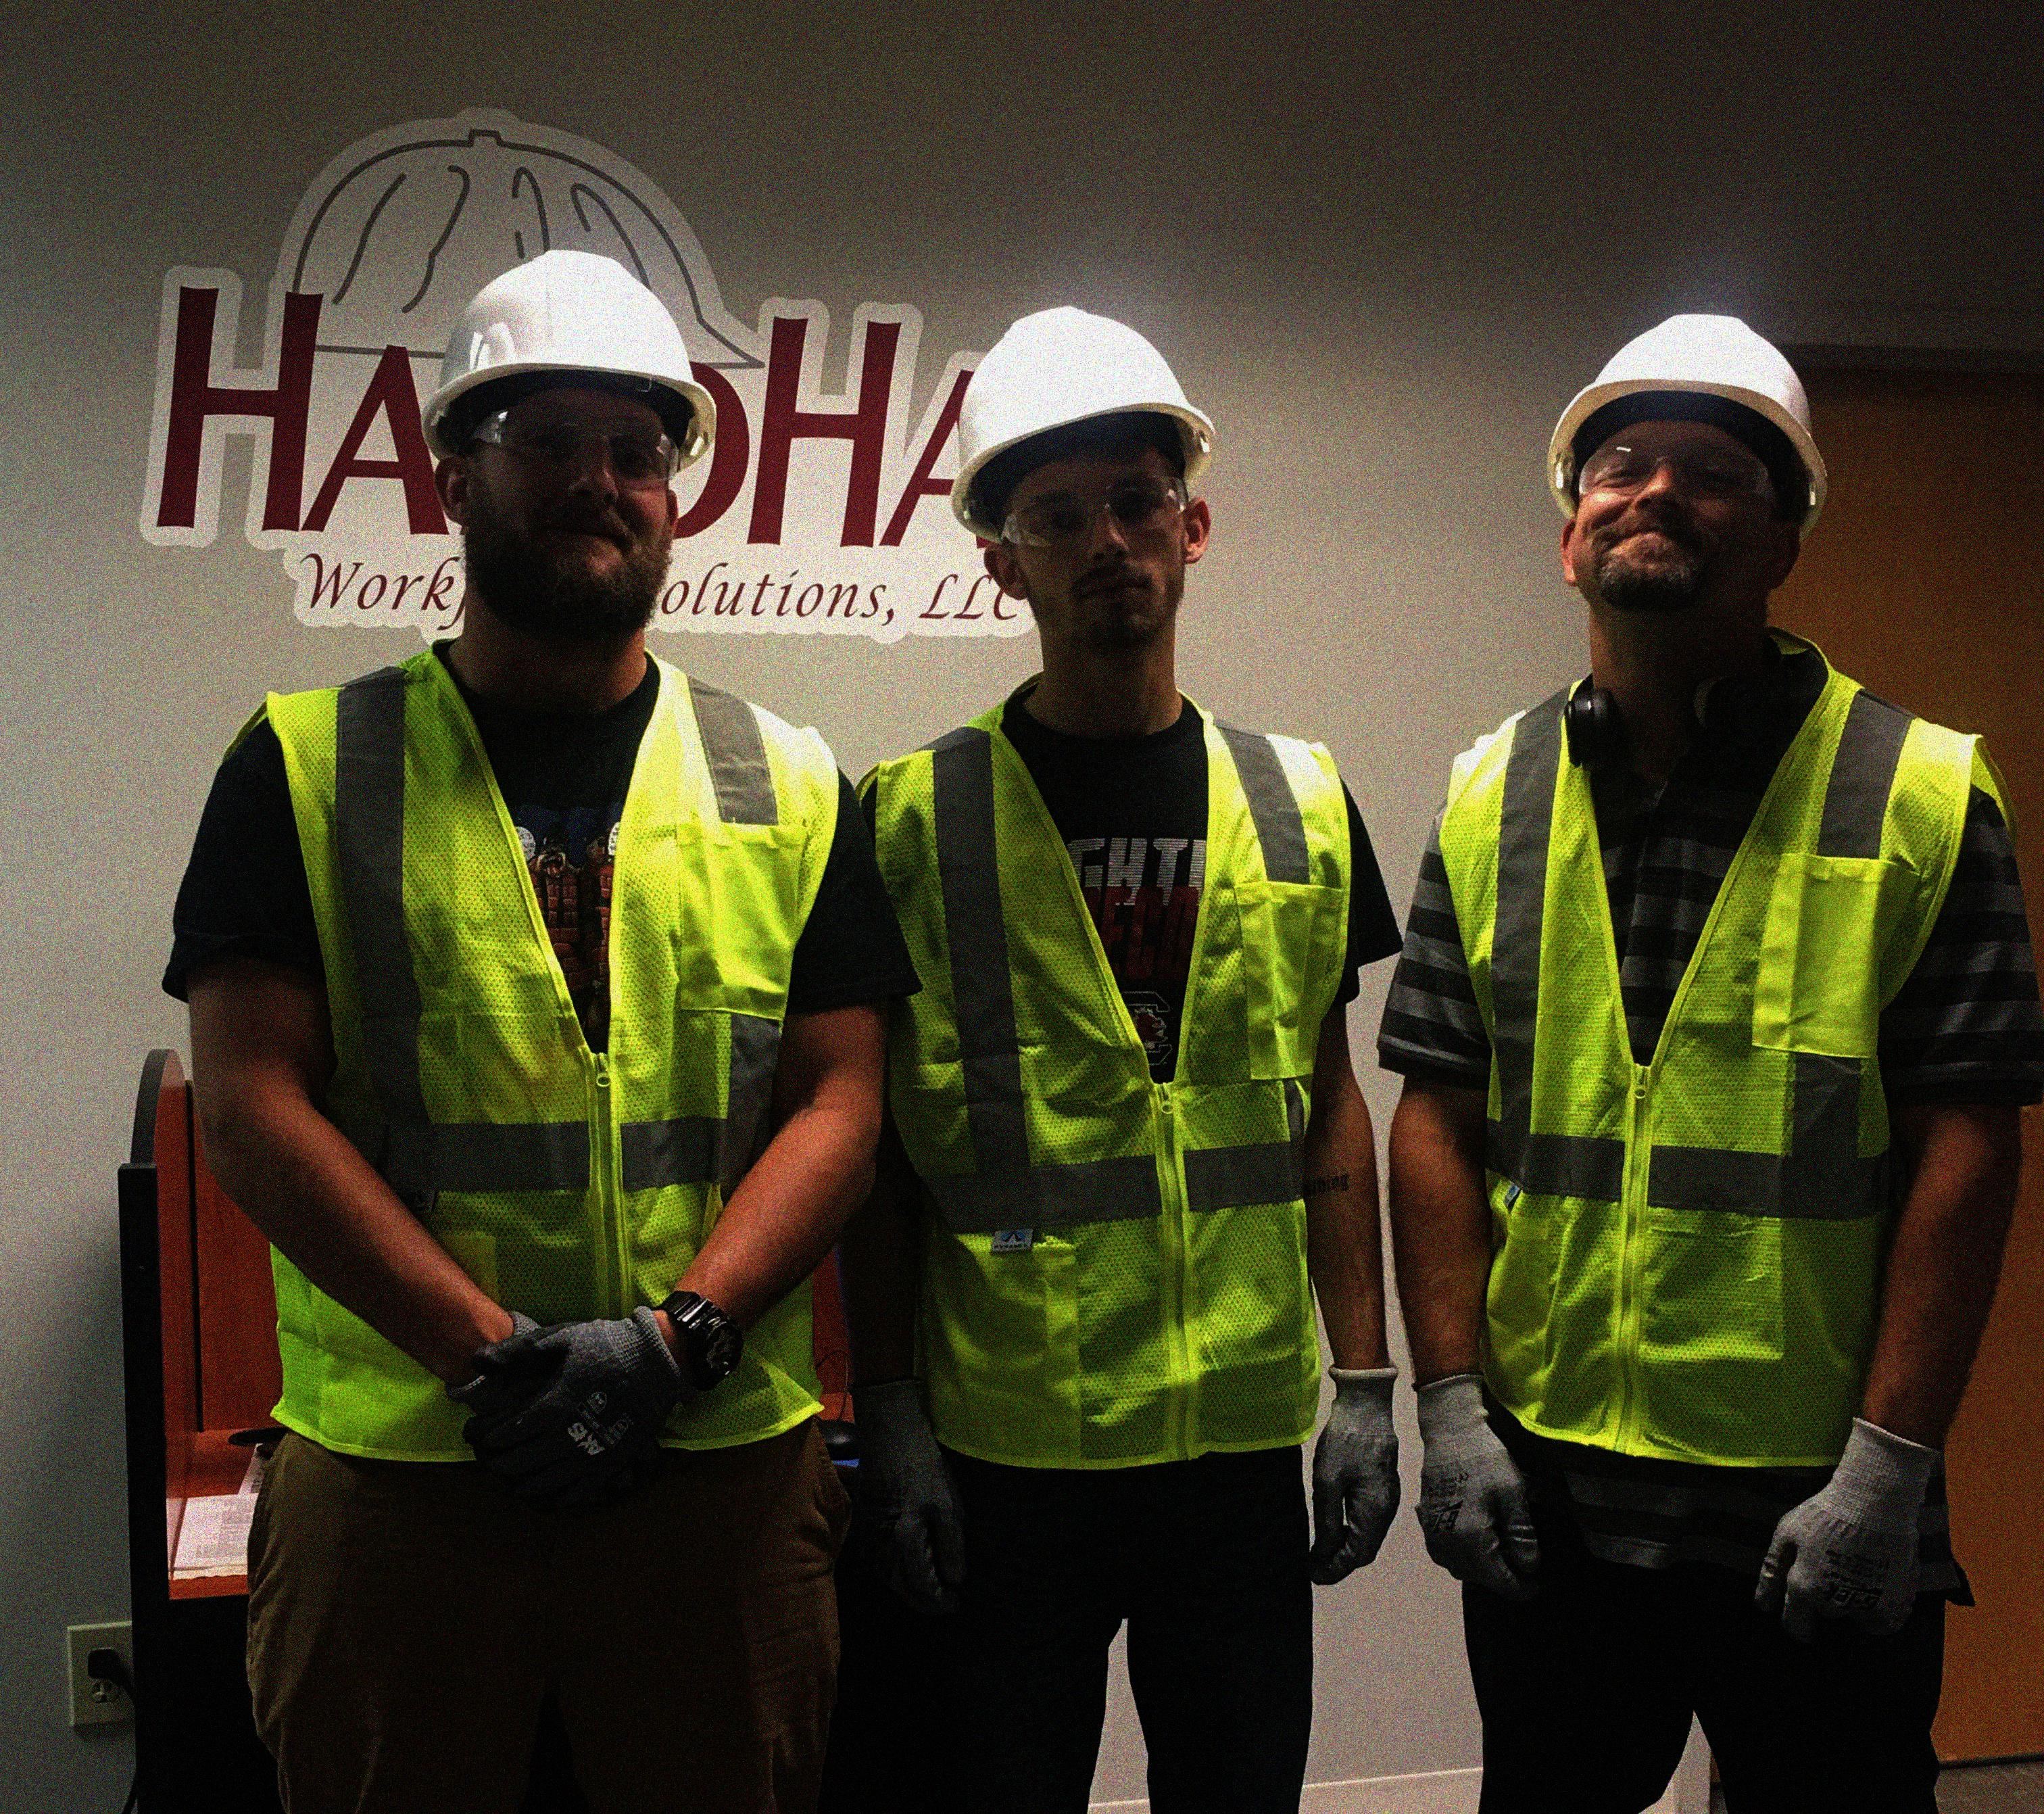helmet: (415, 240, 721, 653), (938, 287, 1220, 669), (1542, 301, 1837, 625)
